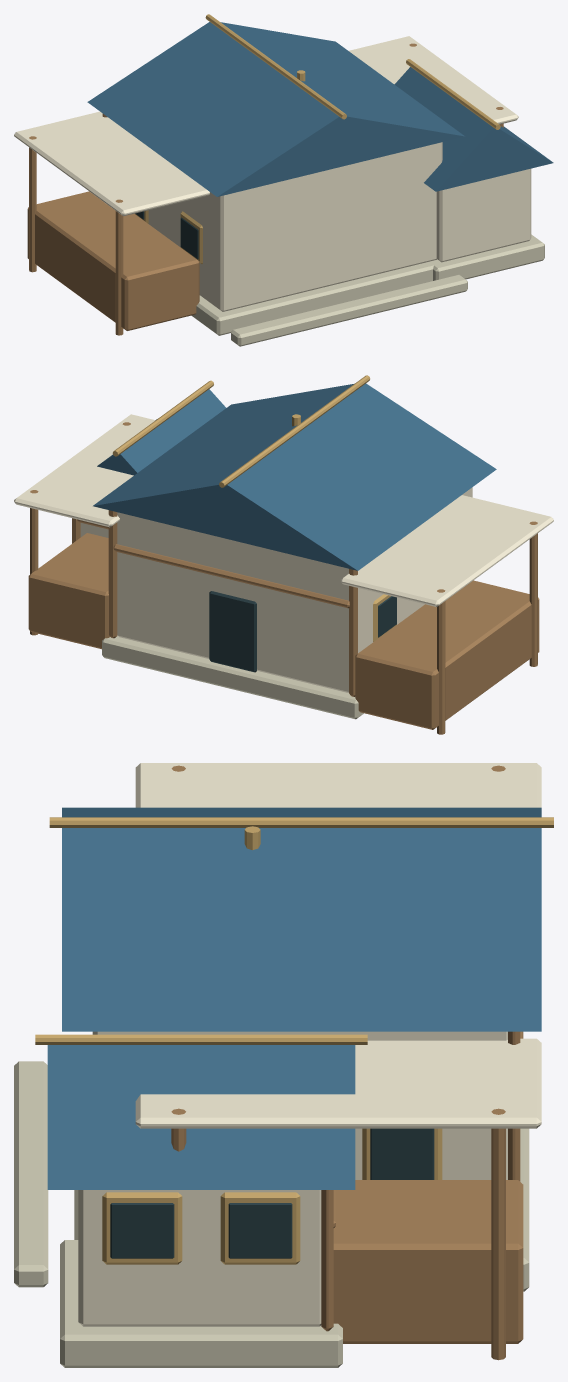
The model's file is level_10.glb.
3 renders of one model, top to bottom at view 1: azimuth 30°, elevation 25°; view 2: azimuth 150°, elevation 25°; view 3: azimuth 270°, elevation 25°, orthographic. The views are drawn at different scales.
Parts seen in each view (by area): view 1: market — level 10; view 2: market — level 10; view 3: market — level 10.
Boxes of the visible parts, <box> form: market — level 10: <box>14,14,553,346</box>; market — level 10: <box>14,375,553,734</box>; market — level 10: <box>14,763,553,1367</box>.
Size of the model in its own units: 7.08 by 3.3 by 4.39.
